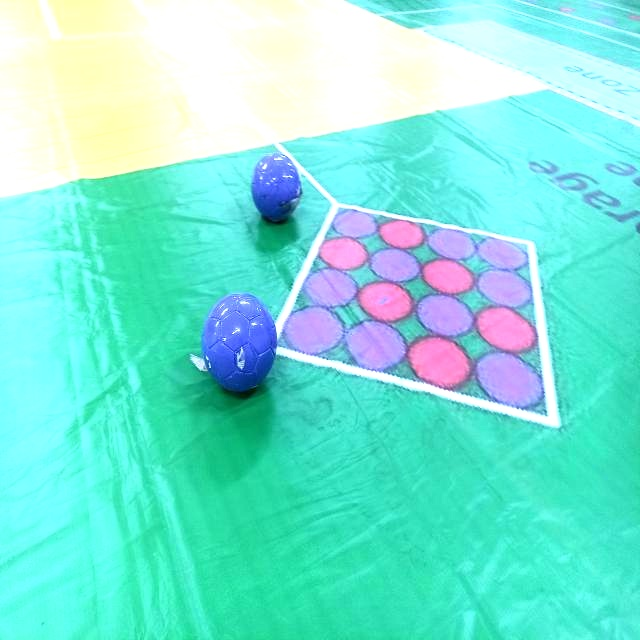blue_ball: (197, 288, 287, 398)
purple_ball: (236, 148, 310, 227)
